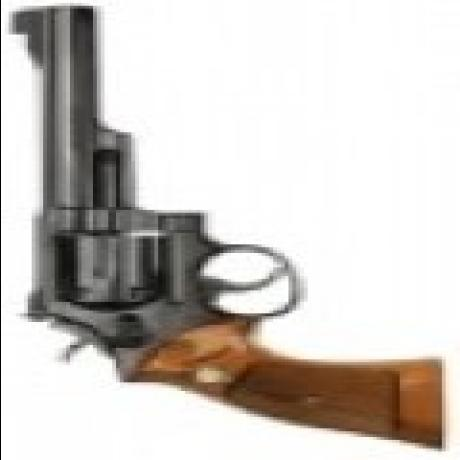weapon: (6, 2, 446, 460)
